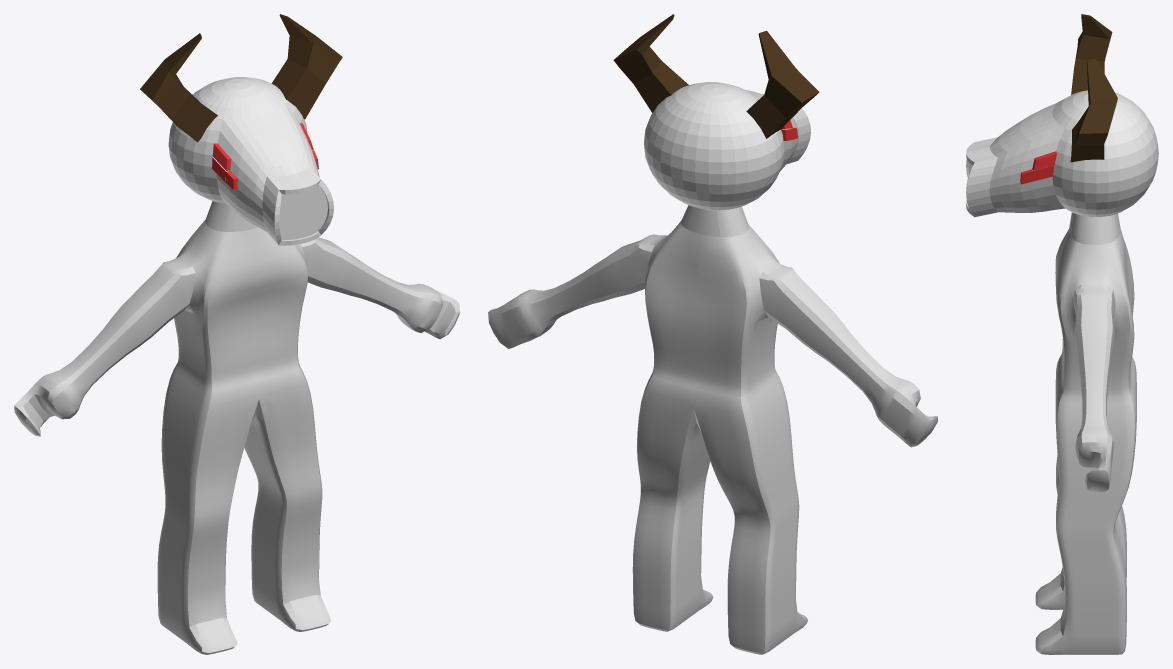
File: minos updated model.fbx
3 views of the same model, side by side, from view 1: azimuth 30°, elevation 25°; view 2: azimuth 150°, elevation 25°; view 3: azimuth 270°, elevation 25° (orthographic). The views are drawn at different scales.
Parts seen in each view (by area): view 1: Plane, Sphere, Cube.001, Cube; view 2: Plane, Sphere, Cube, Cube.001; view 3: Plane, Sphere, Cube.001, Cube.
Boxes of the visible parts, bbox=[...] form: Plane: bbox=[14, 201, 459, 654]; Sphere: bbox=[168, 77, 333, 245]; Cube.001: bbox=[271, 14, 342, 119]; Cube: bbox=[140, 33, 217, 142]; Plane: bbox=[488, 205, 937, 654]; Sphere: bbox=[644, 82, 810, 210]; Cube: bbox=[746, 30, 819, 138]; Cube.001: bbox=[613, 14, 688, 112]; Plane: bbox=[1035, 212, 1136, 654]; Sphere: bbox=[966, 90, 1158, 217]; Cube.001: bbox=[1070, 58, 1117, 162]; Cube: bbox=[1071, 14, 1112, 94].
Size of the model in its own units: 5.01 by 1.93 by 6.54.
